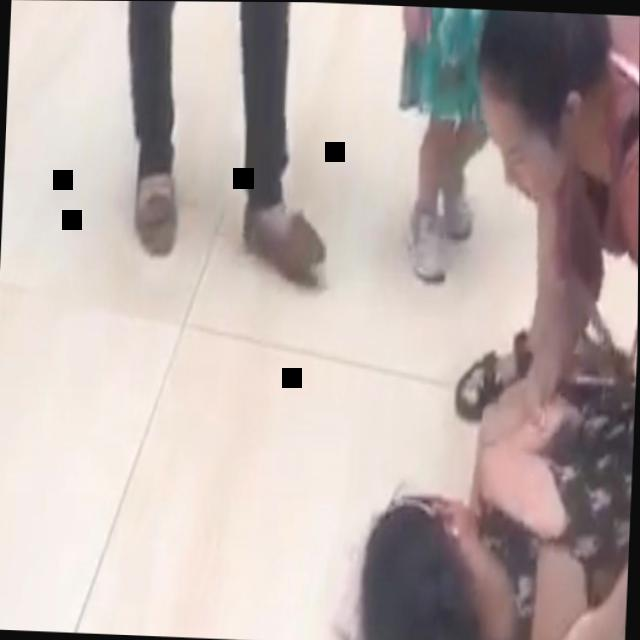Fall-Detected: (332, 288, 638, 640)
